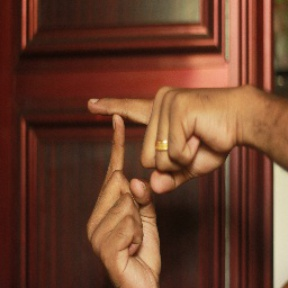T: (69, 78, 186, 225)
